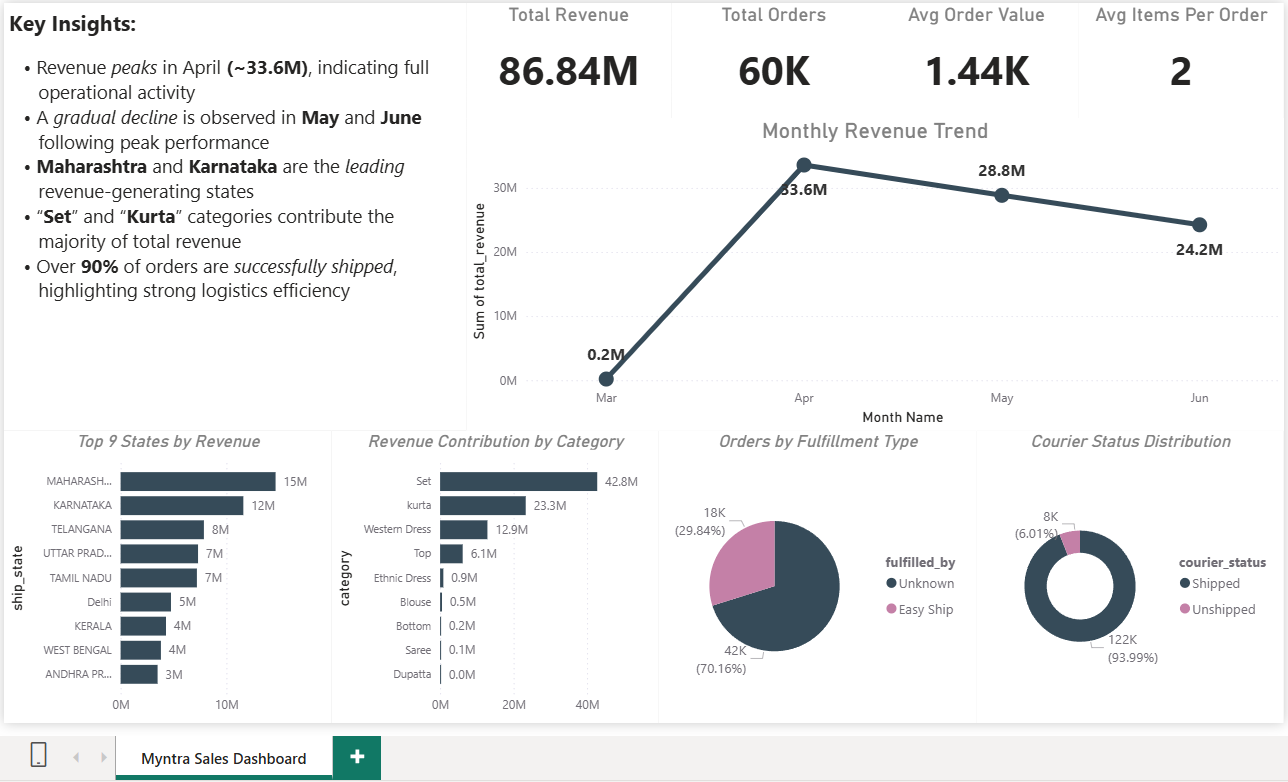

What the dashboard file says about the page in this screenshot:
{"tool":"powerbi","page":{"name":"Myntra Sales Dashboard","canvas":[1280,720],"ordinal":0},"visuals":[{"type":"card","title":"Total Revenue","fields":{"Values":["Sum(public vw_kpis.total_revenue)"]},"box":[462.5,0,205,115],"z":0},{"type":"card","title":"Total Orders","fields":{"Values":["Sum(public vw_kpis.total_orders)"]},"box":[667.5,0,205,115],"z":1000},{"type":"card","title":"Avg Order Value","fields":{"Values":["Sum(public vw_kpis.avg_order_value)"]},"box":[870,0,205,115],"z":2000},{"type":"card","title":"Avg Items Per Order","fields":{"Values":["Sum(public vw_kpis.avg_items_per_order)"]},"box":[1075,0,205,115],"z":3000},{"type":"lineChart","title":"Monthly Revenue Trend","fields":{"Y":["Sum(public vw_monthly_revenue.total_revenue)"],"Category":["public vw_monthly_revenue.Month Name"]},"box":[462.5,115,817.5,312.5],"z":4000},{"type":"clusteredBarChart","title":"Top 9 States by Revenue","fields":{"Category":["public vw_top_states.ship_state"],"Y":["Sum(public vw_top_states.total_revenue)"]},"box":[0,427.5,327.5,292.5],"z":5000},{"type":"clusteredBarChart","title":"Revenue Contribution by Category","fields":{"Category":["public vw_category.category"],"Y":["Sum(public vw_category.total_revenue)"]},"box":[327.5,427.5,327.5,292.5],"z":6000},{"type":"pieChart","title":"Orders by Fulfillment Type ","fields":{"Category":["public vw_fulfillment.fulfilled_by"],"Y":["Sum(public vw_fulfillment.orders)"]},"box":[655,427.5,317.5,292.5],"z":7000},{"type":"donutChart","title":"Courier Status Distribution","fields":{"Category":["public vw_courier_status.courier_status"],"Y":["Sum(public vw_courier_status.total_orders)"]},"box":[972.5,427.5,307.5,292.5],"z":8000},{"type":"textbox","box":[0,0,462.5,427.5],"z":9000}]}

Visuals, with their boxes on the page's 1280x720 design canvas (x1, y1, x2, y2). These are canvas units, not pixel positions in the 1288x782 screenshot, which may show the page scaled, cropped or inside an application window:
"Total Revenue" card: <region>462, 0, 668, 115</region>
"Total Orders" card: <region>668, 0, 872, 115</region>
"Avg Order Value" card: <region>870, 0, 1075, 115</region>
"Avg Items Per Order" card: <region>1075, 0, 1280, 115</region>
"Monthly Revenue Trend" lineChart: <region>462, 115, 1280, 428</region>
"Top 9 States by Revenue" clusteredBarChart: <region>0, 428, 328, 720</region>
"Revenue Contribution by Category" clusteredBarChart: <region>328, 428, 655, 720</region>
"Orders by Fulfillment Type " pieChart: <region>655, 428, 972, 720</region>
"Courier Status Distribution" donutChart: <region>972, 428, 1280, 720</region>
textbox: <region>0, 0, 462, 428</region>
